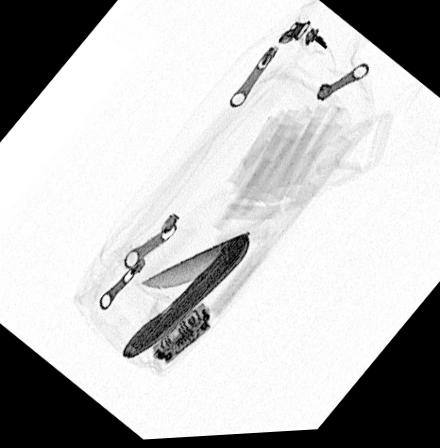Knife: (119, 234, 252, 361)
